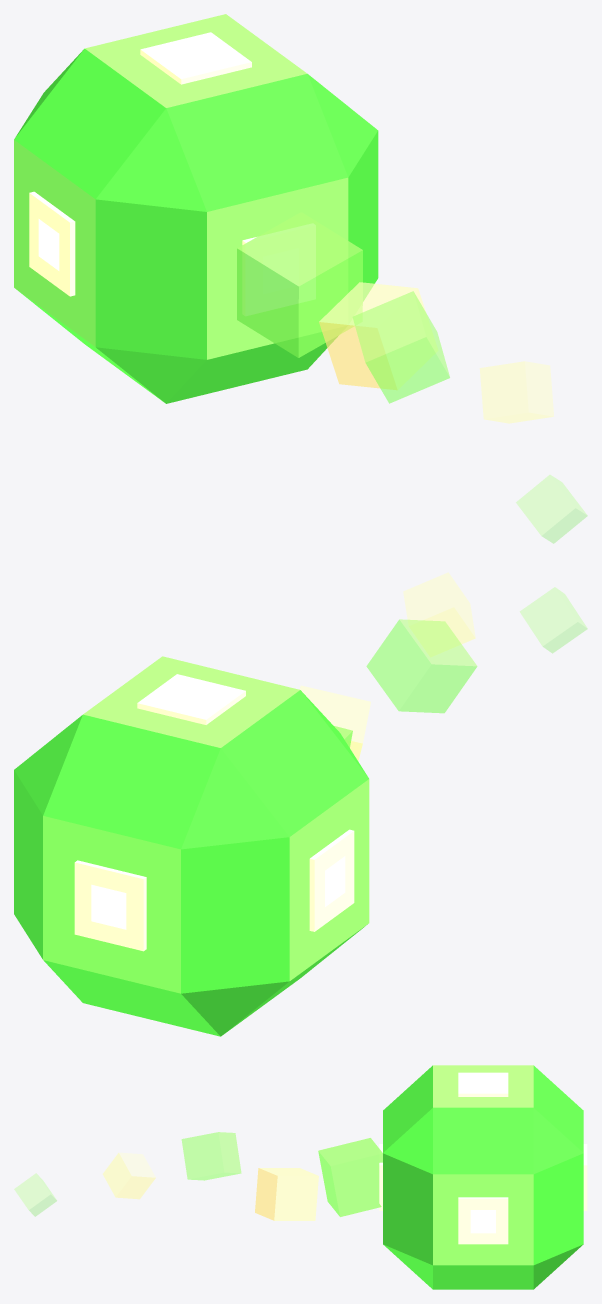
File: slime_crown_staff_bolt.glb
3 views of the same model, one above another, from view 1: azimuth 30°, elevation 25°; view 2: azimuth 150°, elevation 25°; view 3: azimuth 270°, elevation 25° (orthographic). The views are drawn at different scales.
Visible parts, largest first — view 1: bolt_gem, tail_cube_1, bolt_core_plates, tail_cube_2, tail_cube_3, tail_cube_4, bolt_core_centres, tail_cube_5; view 2: bolt_gem, bolt_core_plates, tail_cube_3, tail_cube_4, bolt_core_centres, tail_cube_5, tail_cube_2; view 3: bolt_gem, tail_cube_1, bolt_core_plates, tail_cube_2, tail_cube_3, tail_cube_4, tail_cube_5, bolt_core_centres.
Boxes of the visible parts, x1=… form: bolt_gem: x1=14, y1=14, x2=378, y2=403; tail_cube_1: x1=237, y1=212, x2=362, y2=357; bolt_core_plates: x1=29, y1=32, x2=315, y2=315; tail_cube_2: x1=319, y1=282, x2=437, y2=389; tail_cube_3: x1=352, y1=291, x2=449, y2=403; tail_cube_4: x1=480, y1=361, x2=553, y2=423; bolt_core_centres: x1=38, y1=43, x2=298, y2=293; tail_cube_5: x1=516, y1=475, x2=587, y2=543; bolt_gem: x1=14, y1=656, x2=369, y2=1036; bolt_core_plates: x1=74, y1=674, x2=354, y2=951; tail_cube_3: x1=366, y1=619, x2=477, y2=713; tail_cube_4: x1=403, y1=572, x2=475, y2=656; bolt_core_centres: x1=91, y1=684, x2=345, y2=929; tail_cube_5: x1=520, y1=587, x2=587, y2=653; tail_cube_2: x1=299, y1=685, x2=370, y2=761; bolt_gem: x1=383, y1=1065, x2=583, y2=1289; tail_cube_1: x1=318, y1=1138, x2=382, y2=1216; bolt_core_plates: x1=379, y1=1072, x2=587, y2=1244; tail_cube_2: x1=255, y1=1168, x2=318, y2=1220; tail_cube_3: x1=181, y1=1132, x2=241, y2=1180; tail_cube_4: x1=103, y1=1153, x2=155, y2=1198; tail_cube_5: x1=14, y1=1173, x2=56, y2=1216; bolt_core_centres: x1=470, y1=1077, x2=495, y2=1233.
Size of the model in its own units: 0.2292 by 0.2292 by 0.6284.
